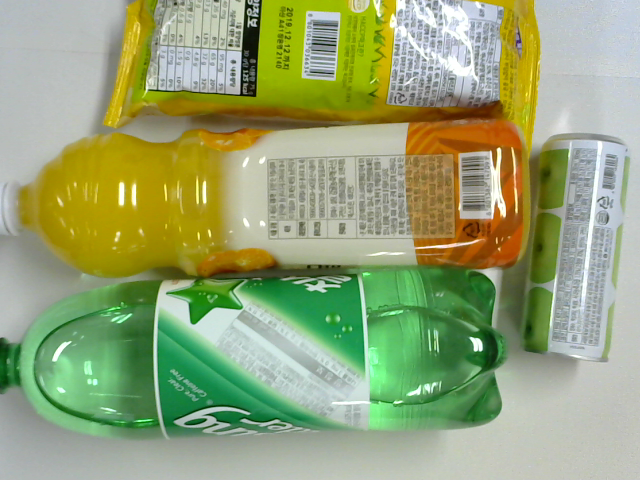Banana_Kick: (101, 4, 545, 152)
Chilseong_Cider_1.5L: (1, 268, 507, 442)
Demisoda_Apple_Can_250ml: (517, 132, 631, 370)
Jeju_Tangerine_1.5L: (7, 120, 529, 270)
